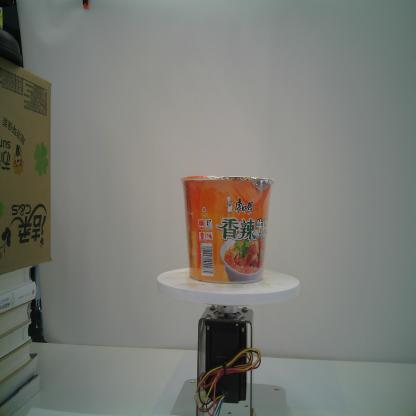Instant Noodles: (179, 175, 275, 285)
